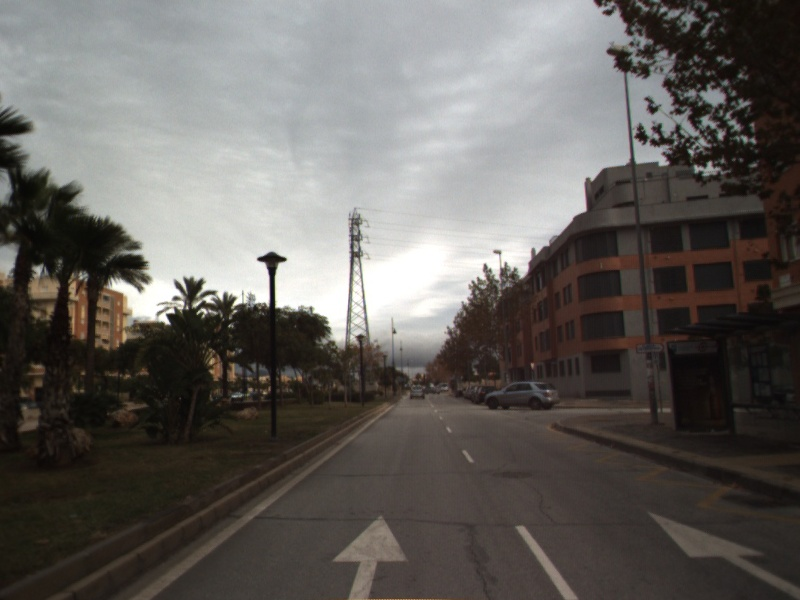STRAIGHT: (645, 508, 800, 599), (329, 512, 411, 600)
